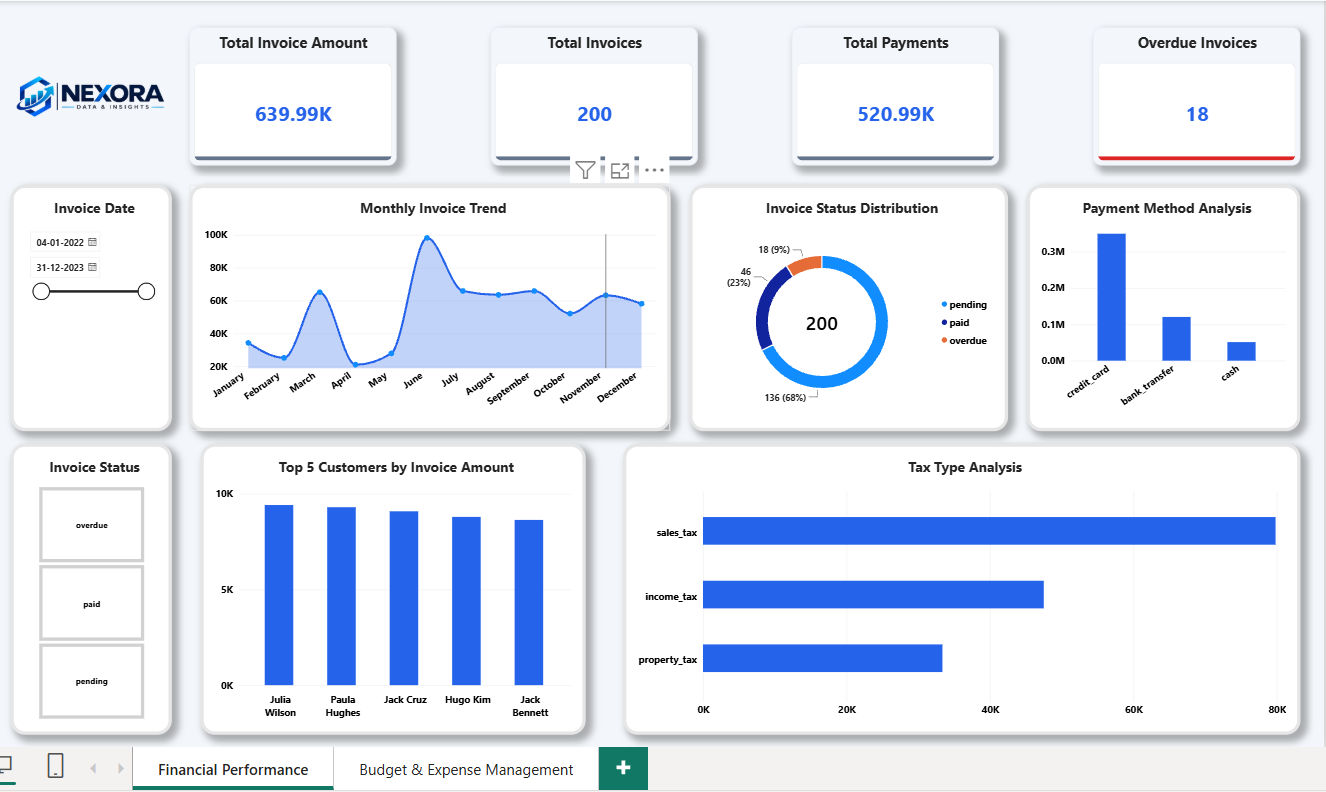

The page's visual inventory and layout, read from the dashboard file:
{"tool":"powerbi","page":{"name":"Financial Performance","canvas":[1920,1080],"ordinal":0},"visuals":[{"type":"cardVisual","title":"Total Invoice Amount","fields":{"Data":["Sum(financial_transaction_insights_v5_csv_invoices.amount)"]},"box":[277.5,38.3,300,200],"z":0},{"type":"cardVisual","title":"Total Invoices","fields":{"Data":["CountNonNull(financial_transaction_insights_v5_csv_invoices.id)"]},"box":[713.3,38.3,300,200],"z":1000},{"type":"cardVisual","title":"Total Payments","fields":{"Data":["Sum(financial_transaction_insights_v5_csv_payments.amount)"]},"box":[1149.1,38.3,300,200],"z":2000},{"type":"cardVisual","title":"Overdue Invoices","fields":{"Data":["financial_transaction_insights_v5_csv_invoices.Overdue Invoices"]},"box":[1584.9,38.3,300,200],"z":3000},{"type":"donutChart","title":"Invoice Status Distribution","fields":{"Category":["financial_transaction_insights_v5_csv_invoices.status"],"Y":["CountNonNull(financial_transaction_insights_v5_csv_invoices.id)"]},"box":[1000.7,266,461.5,356.5],"z":4000},{"type":"lineChart","title":"Monthly Invoice Trend","fields":{"Category":["financial_transaction_insights_v5_csv_invoices.issue_date.Variation.Date Hierarchy.Month"],"Y":["Sum(financial_transaction_insights_v5_csv_invoices.amount)"]},"box":[276.9,266,696.7,356.5],"z":5000},{"type":"clusteredColumnChart","title":"Payment Method Analysis","fields":{"Category":["financial_transaction_insights_v5_csv_payments.payment_method"],"Y":["Sum(financial_transaction_insights_v5_csv_payments.amount)"]},"box":[1489.4,266,396.3,356.5],"z":6000},{"type":"clusteredBarChart","title":"Tax Type Analysis","fields":{"Category":["financial_transaction_insights_v5_csv_tax_entries.tax_type"],"Y":["Sum(financial_transaction_insights_v5_csv_tax_entries.amount)"]},"box":[904.8,640.6,980.8,421.7],"z":7000},{"type":"clusteredColumnChart","title":"Top 5 Customers by Invoice Amount","fields":{"Category":["financial_transaction_insights_v5_csv_invoices.customer_name"],"Y":["Sum(financial_transaction_insights_v5_csv_invoices.amount)"]},"box":[293.2,640.6,557.4,421.7],"z":8000},{"type":"slicer","title":"Invoice Date","fields":{"Values":["financial_transaction_insights_v5_csv_invoices.issue_date"]},"box":[18.1,266,233.4,356.5],"z":9000},{"type":"slicer","title":"Invoice Status","fields":{"Values":["financial_transaction_insights_v5_csv_invoices.status"]},"box":[18.1,640.6,233.4,421.7],"z":10000},{"type":"image","box":[18,38,233,200],"z":10001}]}

Visuals, with their boxes on the page's 1920x1080 design canvas (x1, y1, x2, y2). These are canvas units, not pixel positions in the 1326x792 screenshot, which may show the page scaled, cropped or inside an application window:
"Total Invoice Amount" cardVisual: BBox(278, 38, 578, 238)
"Total Invoices" cardVisual: BBox(713, 38, 1013, 238)
"Total Payments" cardVisual: BBox(1149, 38, 1449, 238)
"Overdue Invoices" cardVisual: BBox(1585, 38, 1885, 238)
"Invoice Status Distribution" donutChart: BBox(1001, 266, 1462, 622)
"Monthly Invoice Trend" lineChart: BBox(277, 266, 974, 622)
"Payment Method Analysis" clusteredColumnChart: BBox(1489, 266, 1886, 622)
"Tax Type Analysis" clusteredBarChart: BBox(905, 641, 1886, 1062)
"Top 5 Customers by Invoice Amount" clusteredColumnChart: BBox(293, 641, 851, 1062)
"Invoice Date" slicer: BBox(18, 266, 252, 622)
"Invoice Status" slicer: BBox(18, 641, 252, 1062)
image: BBox(18, 38, 251, 238)
